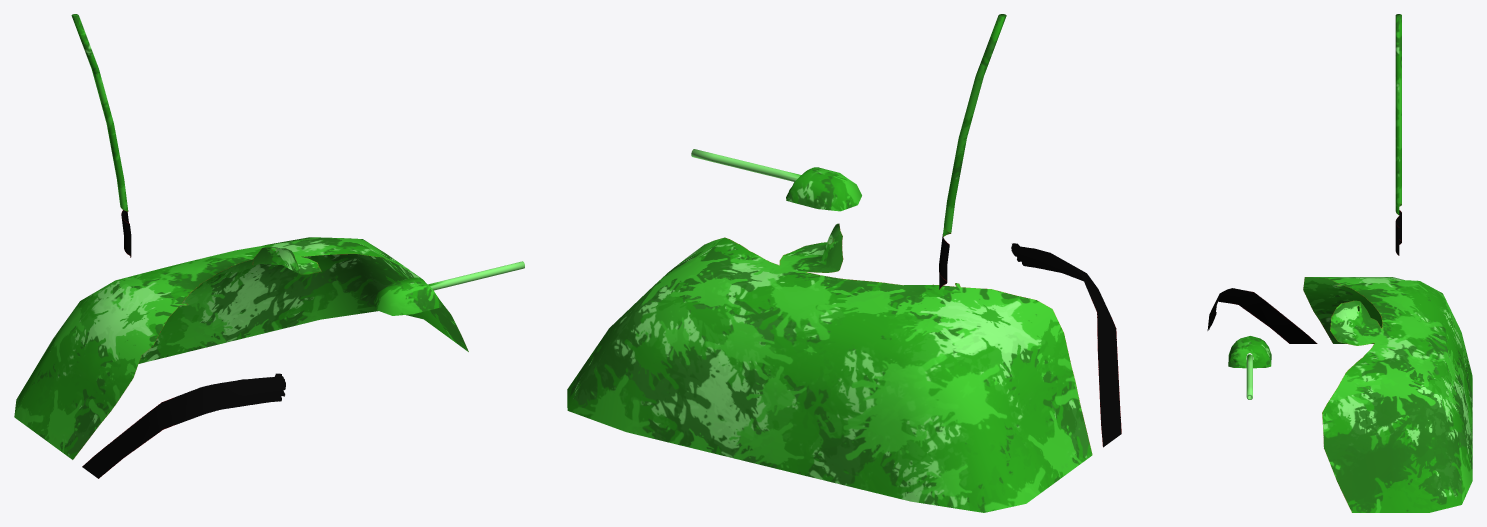
File: tank_green_top.obj
3 renders of one model, left to right at view 1: azimuth 30°, elevation 25°; view 2: azimuth 150°, elevation 25°; view 3: azimuth 270°, elevation 25°, orthographic. The views are drawn at different scales.
Parts seen in each view (by area): view 1: Group1; view 2: Group1; view 3: Group1.
Boxes of the visible parts, x1,y1,x2,y2 form: Group1: (14,14,524,478); Group1: (567,14,1121,512); Group1: (1207,14,1472,512).
Bounding box in the file's own units: 13.59 × 12.95 × 9.63.
